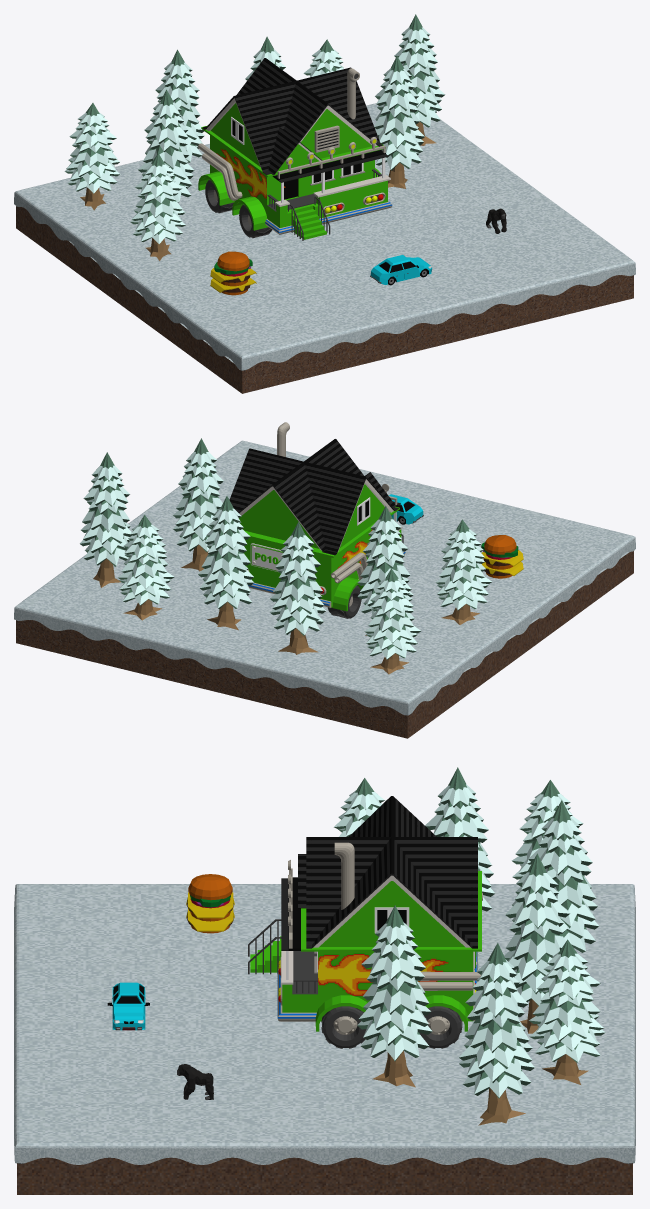
The picture shows the model from 3 angles, top to bottom: view 1: azimuth 30°, elevation 25°; view 2: azimuth 150°, elevation 25°; view 3: azimuth 270°, elevation 25°; orthographic projection. The views are drawn at different scales.
Parts seen in each view (by area): view 1: Cube.003, Cube.1474, OBJRANDOM_HAMBURGER, VEHICLES_CAR; view 2: Cube.003, Cube.1474, OBJRANDOM_HAMBURGER, VEHICLES_CAR; view 3: Cube.003, Cube.1474, OBJRANDOM_HAMBURGER, VEHICLES_CAR, ANIMAL_GORILA.
Part boxes in pixels (x1=…): Cube.003: x1=14, y1=14, x2=635, y2=393; Cube.1474: x1=198, y1=58, x2=392, y2=240; OBJRANDOM_HAMBURGER: x1=210, y1=251, x2=256, y2=295; VEHICLES_CAR: x1=370, y1=255, x2=432, y2=285; Cube.003: x1=14, y1=438, x2=635, y2=738; Cube.1474: x1=229, y1=422, x2=405, y2=618; OBJRANDOM_HAMBURGER: x1=481, y1=535, x2=523, y2=578; VEHICLES_CAR: x1=389, y1=494, x2=423, y2=524; Cube.003: x1=14, y1=767, x2=635, y2=1194; Cube.1474: x1=248, y1=796, x2=482, y2=1048; OBJRANDOM_HAMBURGER: x1=186, y1=874, x2=234, y2=933; VEHICLES_CAR: x1=107, y1=982, x2=149, y2=1030; ANIMAL_GORILA: x1=177, y1=1064, x2=213, y2=1099.
Bounding box in the file's own units: 4040 × 1859 × 4040.
Materials: 38 (5 with a texture image).
